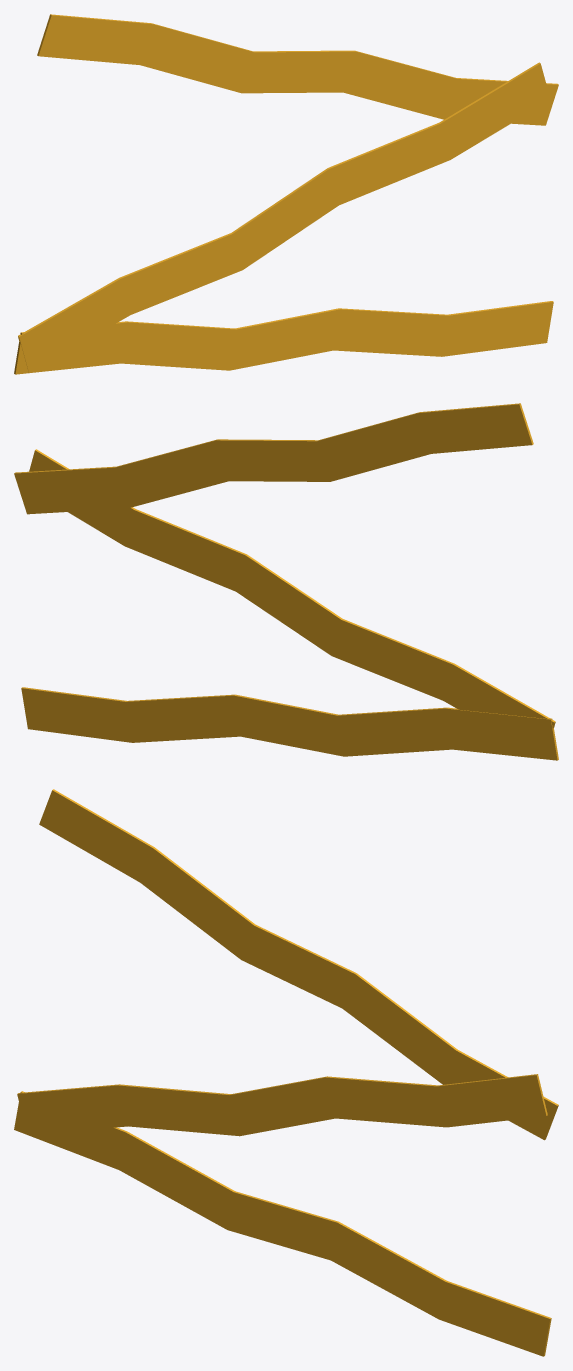
Rendered from Tape.fbx.
3 views of the same model, one above another, from view 1: azimuth 30°, elevation 25°; view 2: azimuth 150°, elevation 25°; view 3: azimuth 330°, elevation 25° (orthographic).
Parts seen in each view (by area): view 1: Tape 3; view 2: Tape 3; view 3: Tape 3.
Boxes of the visible parts, left/top/right/bottom form: Tape 3: left=14, top=14, right=558, bottom=374; Tape 3: left=14, top=403, right=558, bottom=760; Tape 3: left=14, top=789, right=558, bottom=1356.
Size of the model in its own units: 359 by 282 by 3.23.
